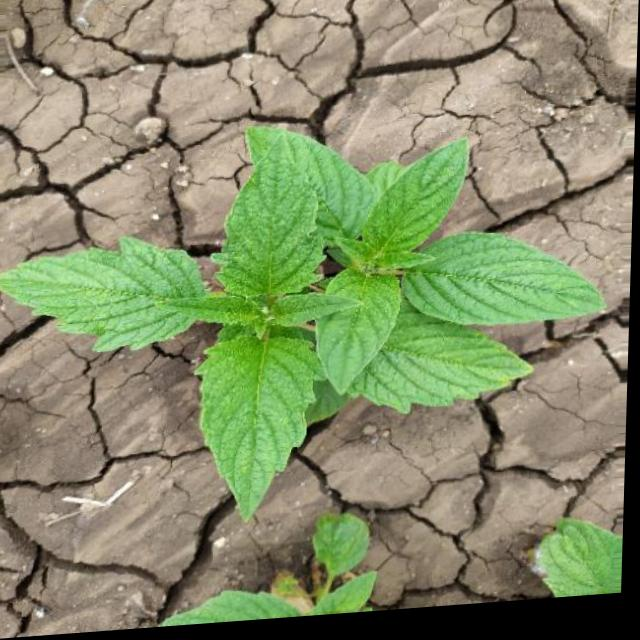crop: (0, 80, 624, 545)
